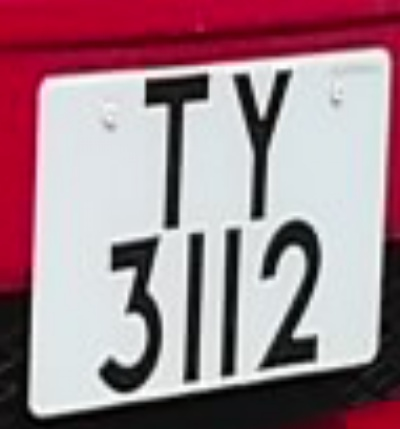1: (167, 218, 218, 391), (203, 216, 246, 381)
2: (241, 210, 331, 377)
3: (81, 221, 177, 398)
T: (131, 63, 222, 232)
Y: (210, 57, 292, 229)
